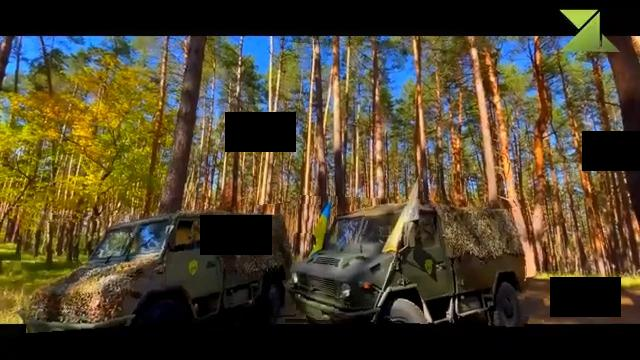MIL_HMMWV: (20, 207, 295, 331), (287, 198, 528, 330)
